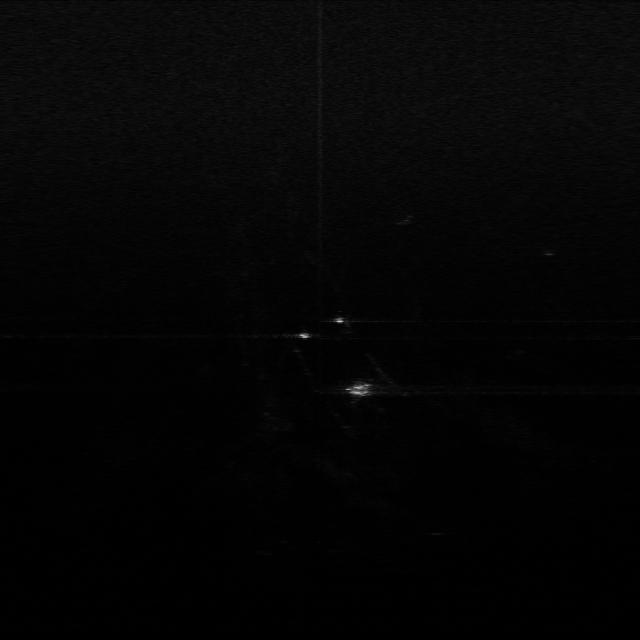rov: (339, 378, 377, 400)
